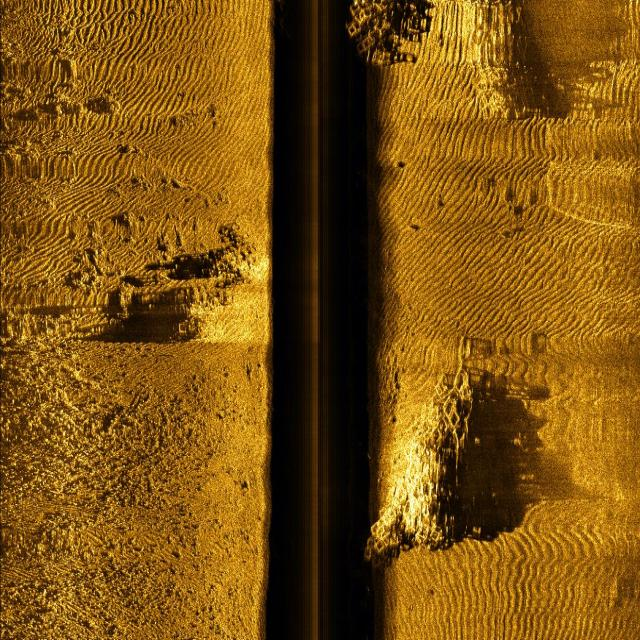artificial reef: (337, 342, 490, 555), (348, 0, 417, 85)
